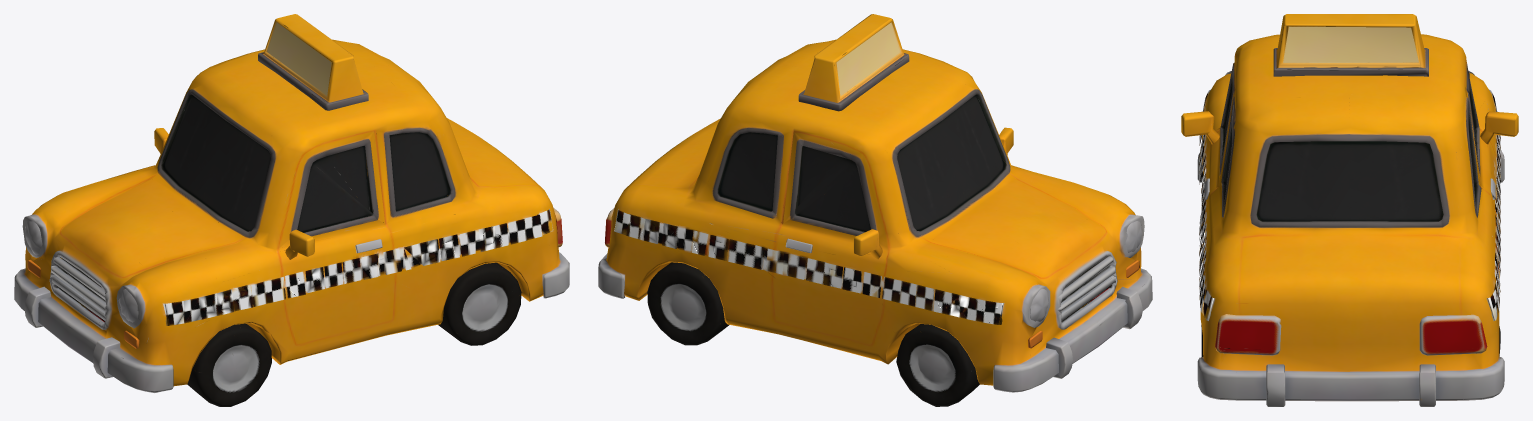
File: 52-taxi.glb
3 views of the same model, side by side, from view 1: azimuth 30°, elevation 25°; view 2: azimuth 150°, elevation 25°; view 3: azimuth 270°, elevation 25° (orthographic). The views are drawn at different scales.
Visible parts, largest first — view 1: geometry_0; view 2: geometry_0; view 3: geometry_0.
Boxes of the visible parts, x1,y1,x2,y2 form: geometry_0: (14, 14, 569, 406); geometry_0: (598, 14, 1152, 406); geometry_0: (1181, 14, 1518, 406).
Bounding box in the file's own units: 0.9546 × 0.5679 × 0.5503.
Materials: 1 (1 with a texture image).
